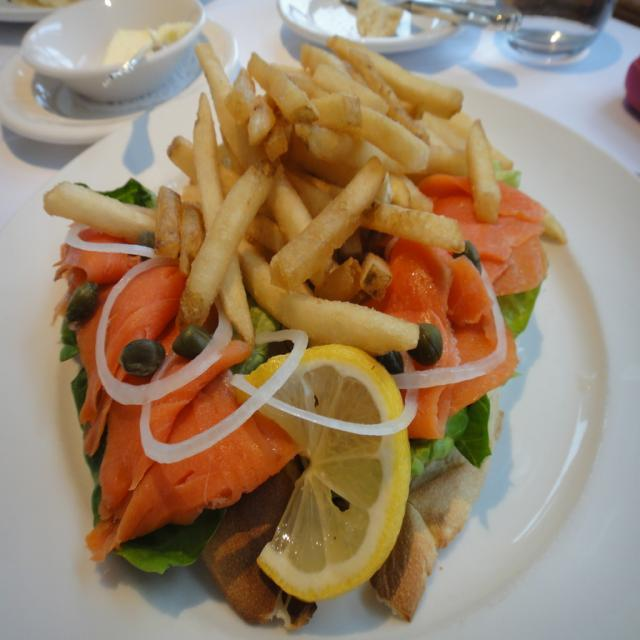Lemon: (237, 341, 412, 603)
